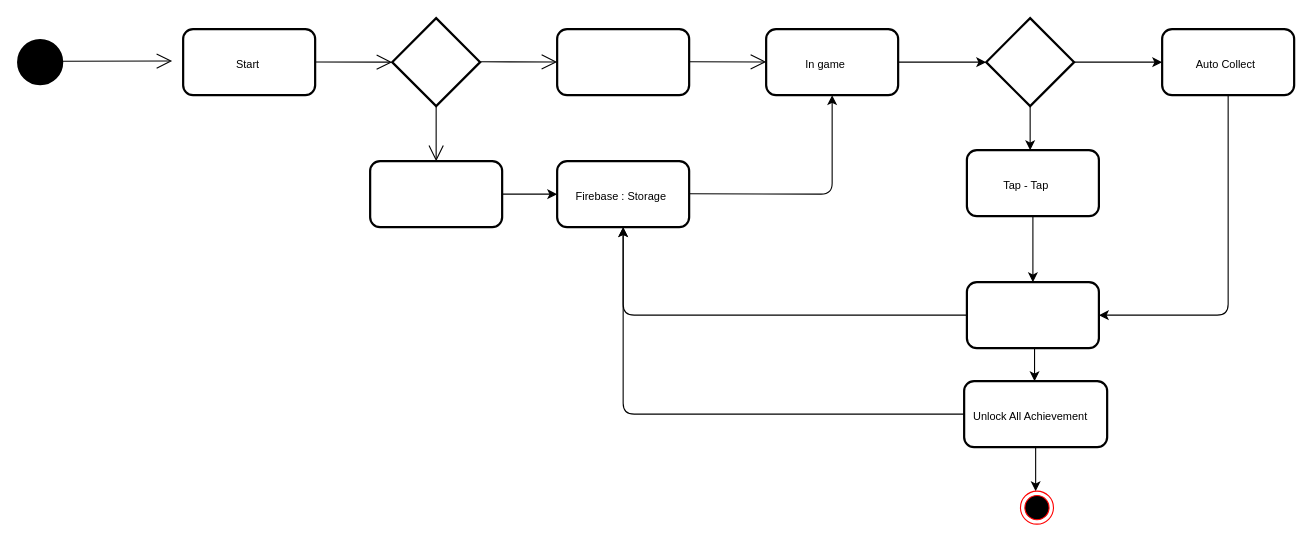
The diagram is 1312 pixels wide and 542 high, and some of its shapes have lost their labels. The centre of each missing label's shape, as x and y in pixels:
Cloud: (436,194)
Get Coint: (1032,314)
Local: (623,62)
